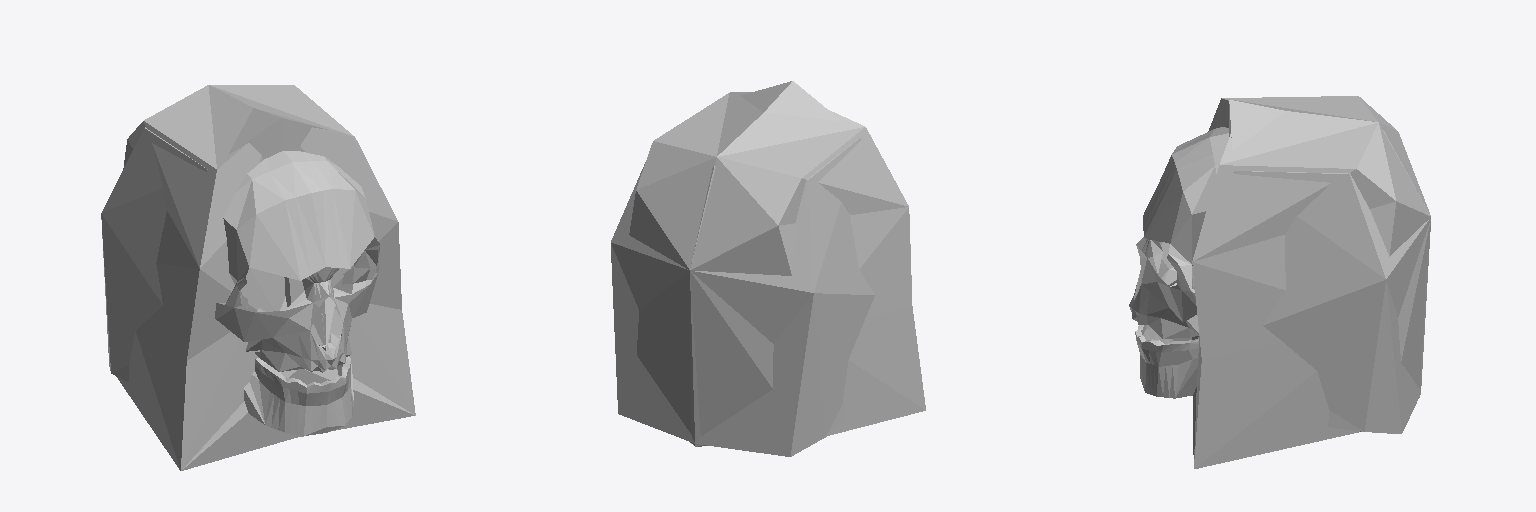
File: vs-skull3.obj
3 renders of one model, left to right at view 1: azimuth 30°, elevation 25°; view 2: azimuth 150°, elevation 25°; view 3: azimuth 270°, elevation 25°, orthographic.
Parts seen in each view (by area): view 1: Cube.002, Cube, Cube.001; view 2: Cube.002; view 3: Cube.002, Cube, Cube.001.
Boxes of the visible parts, x1,y1,x2,y2 form: Cube.002: [101, 85, 415, 470]; Cube: [215, 151, 379, 372]; Cube.001: [244, 356, 353, 435]; Cube.002: [611, 81, 925, 456]; Cube.002: [1192, 96, 1430, 468]; Cube: [1129, 127, 1228, 338]; Cube.001: [1135, 325, 1198, 398].
Size of the model in its own units: 1.48 by 1.89 by 1.66.